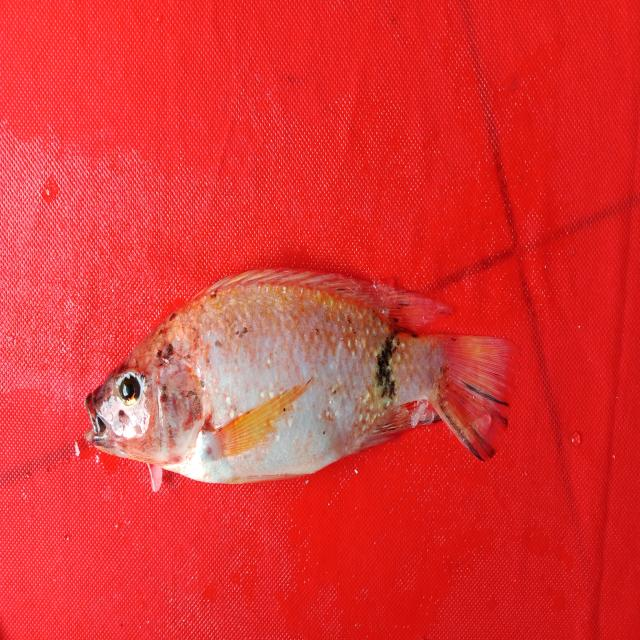ikan: (73, 225, 532, 496)
